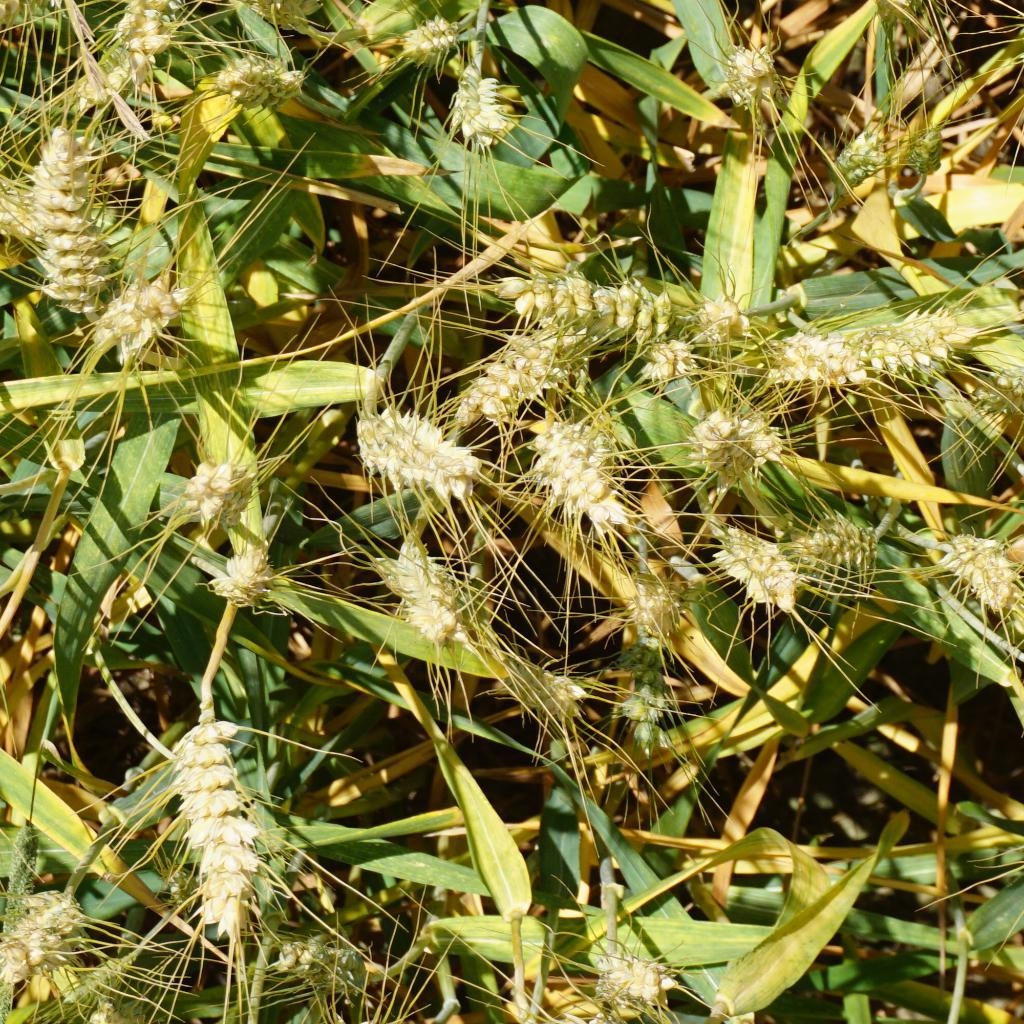0-0: (170, 722, 264, 934), (24, 137, 109, 305), (534, 413, 634, 527), (508, 260, 661, 325), (391, 402, 502, 487), (470, 327, 585, 408), (699, 510, 799, 603), (91, 263, 190, 354), (863, 287, 963, 375), (610, 636, 678, 760), (384, 536, 472, 630), (487, 644, 587, 726), (211, 42, 320, 116), (364, 392, 453, 477), (48, 34, 150, 105), (943, 523, 1019, 617), (0, 877, 79, 967), (271, 927, 378, 991), (802, 497, 883, 581), (685, 405, 772, 483), (200, 540, 288, 617), (166, 452, 257, 520), (782, 312, 870, 380), (446, 67, 520, 137), (617, 580, 689, 649), (819, 118, 883, 195), (592, 948, 685, 998), (719, 41, 782, 100), (402, 7, 470, 59), (120, 0, 188, 48), (981, 339, 1024, 409), (682, 287, 752, 329), (641, 328, 700, 376), (900, 120, 943, 180), (0, 173, 35, 240), (224, 0, 325, 22), (0, 0, 55, 29)
